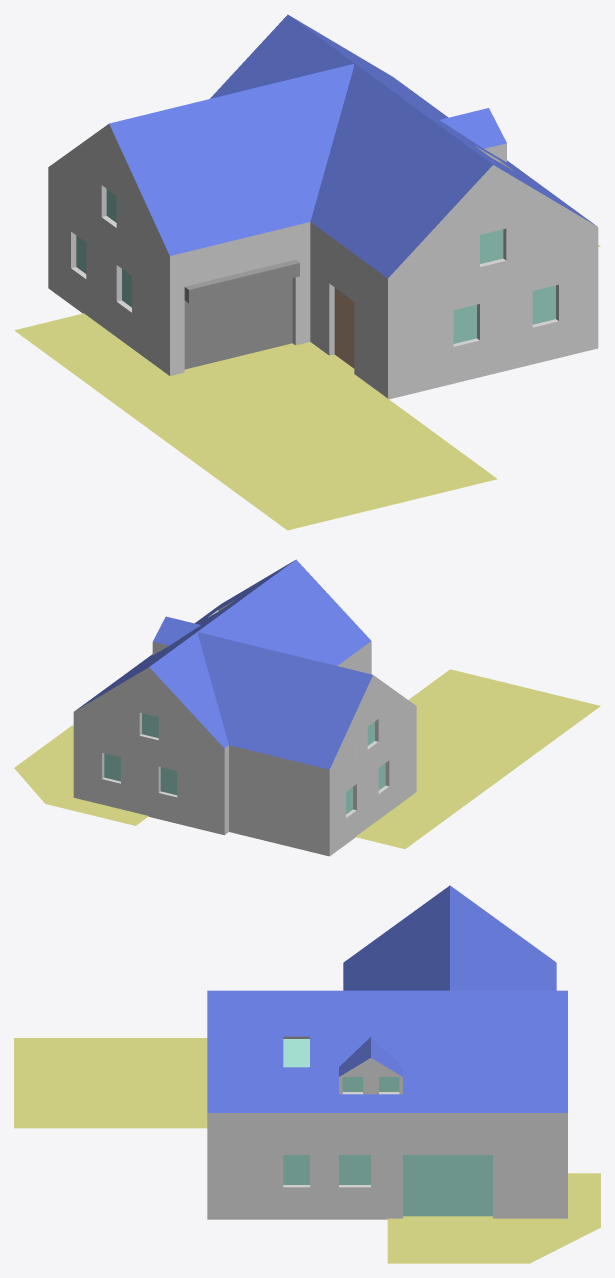
File: maison_jardin_1.fbx
3 renders of one model, top to bottom at view 1: azimuth 30°, elevation 25°; view 2: azimuth 150°, elevation 25°; view 3: azimuth 270°, elevation 25°, orthographic. The views are drawn at different scales.
Parts seen in each view (by area): view 1: maison jardin 1; view 2: maison jardin 1; view 3: maison jardin 1.
Part boxes in pixels (bbox=[...]): maison jardin 1: bbox=[14, 14, 600, 530]; maison jardin 1: bbox=[14, 559, 600, 856]; maison jardin 1: bbox=[14, 885, 600, 1263].
Size of the model in its own units: 500 by 190 by 550.
